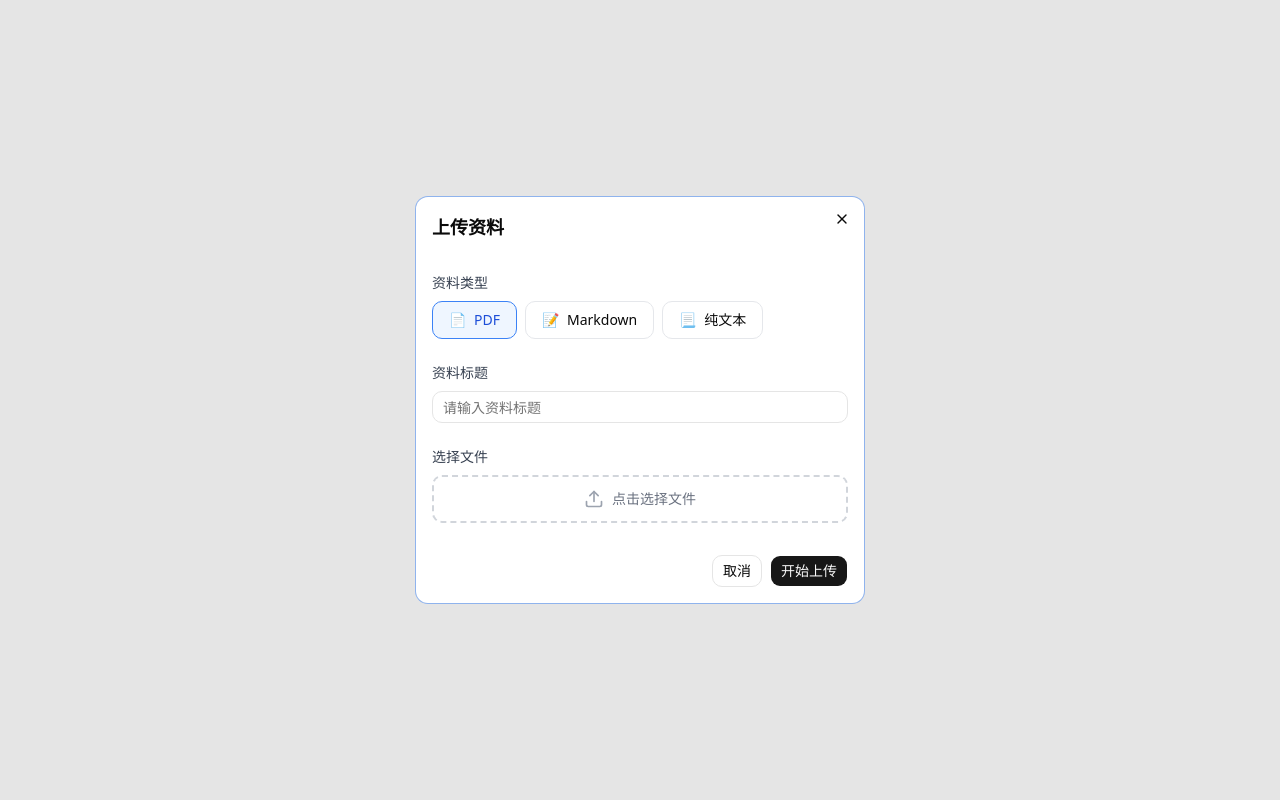
Test: UploadDialog › form validation › should require file selection
This screenshot has width=1280, height=800.
Type "Test Title" into the field labelled "资料标题" at (640, 407), box [432,391,848,423]
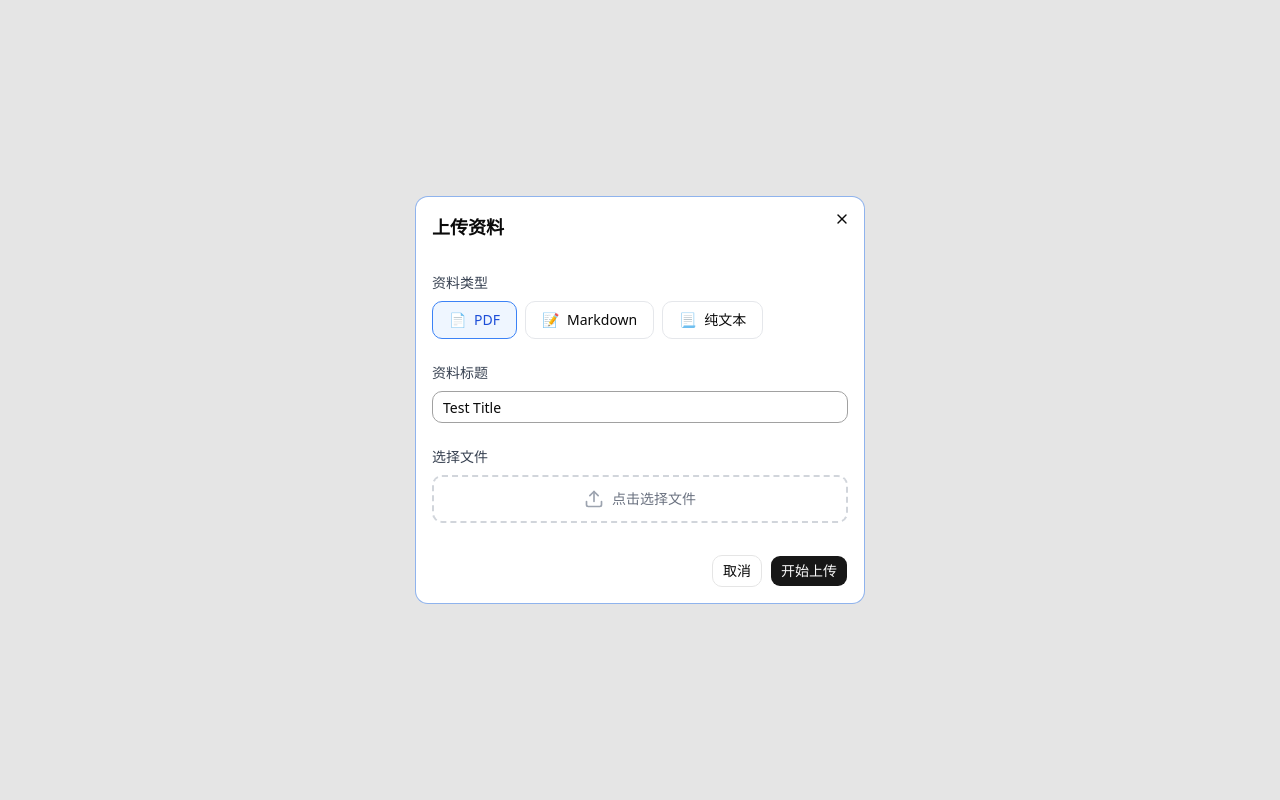
Click the button "开始上传" at (809, 571), box [770,555,848,587]
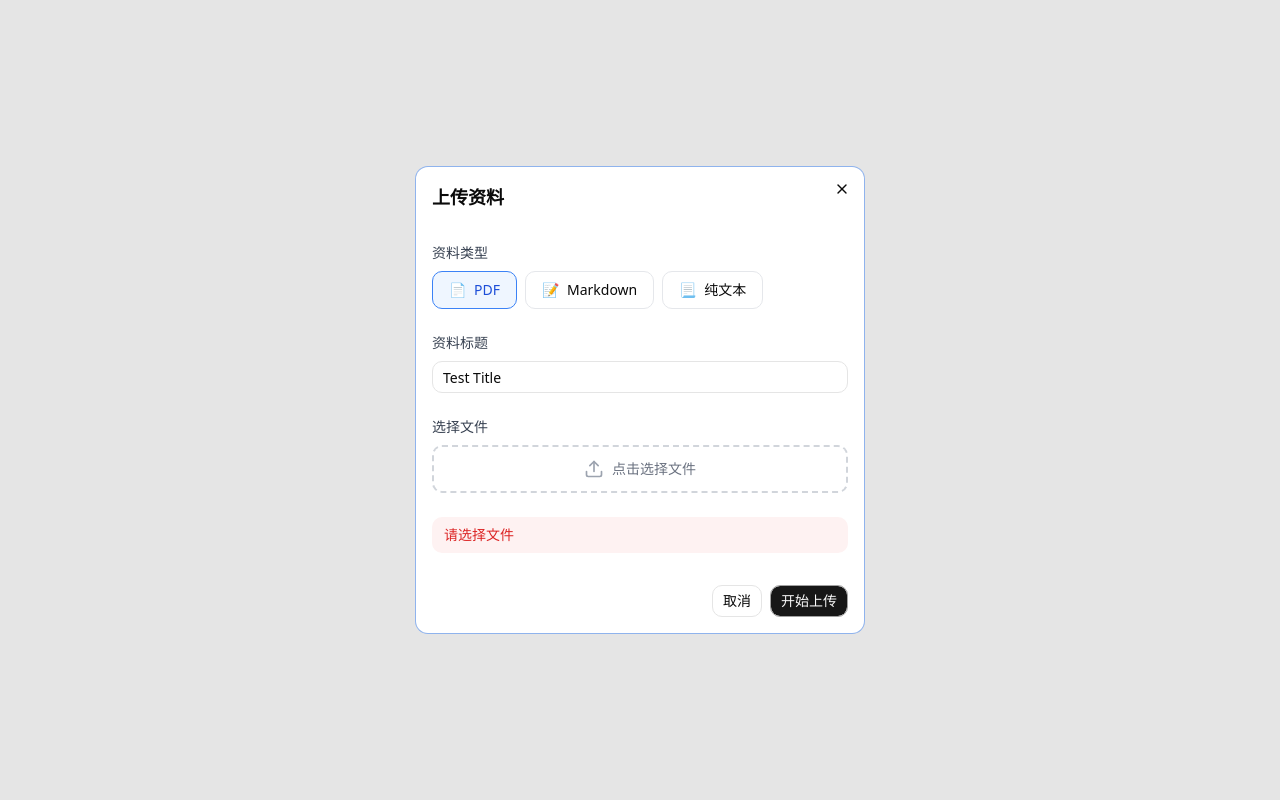
Check: the text "请选择文件" is shown, box [432,517,848,553]
